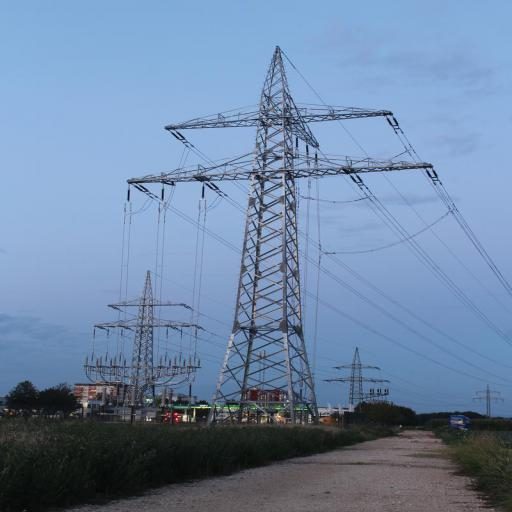ss_2: (126, 47, 437, 426), (95, 266, 198, 400), (324, 343, 396, 405), (471, 382, 507, 419)
